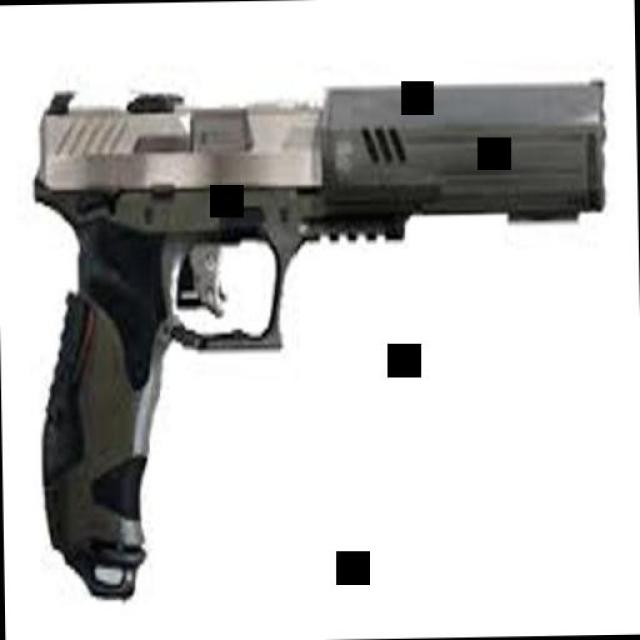gun: (30, 52, 606, 604)
